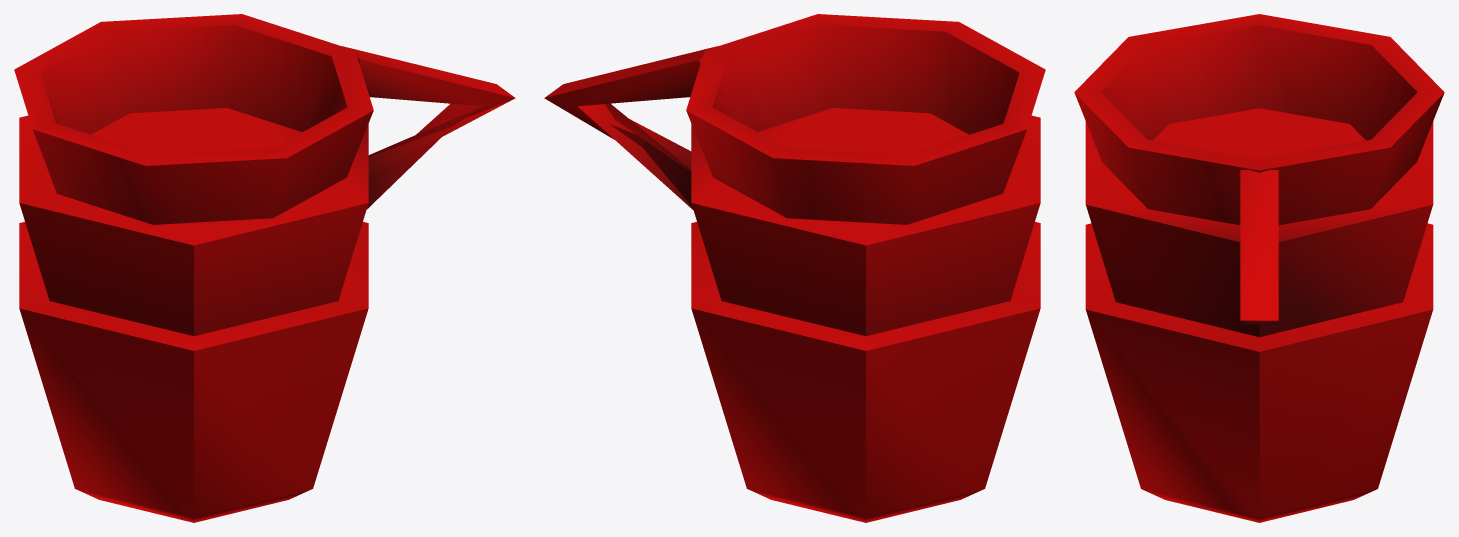
File: CI_Cafe_Cup_Stack.glb
3 views of the same model, side by side, from view 1: azimuth 30°, elevation 25°; view 2: azimuth 150°, elevation 25°; view 3: azimuth 270°, elevation 25° (orthographic).
Visible parts, largest first — view 1: CI_Cafe_Cup_Stack; view 2: CI_Cafe_Cup_Stack; view 3: CI_Cafe_Cup_Stack.
Boxes of the visible parts, bbox=[...] form: CI_Cafe_Cup_Stack: bbox=[14, 14, 515, 522]; CI_Cafe_Cup_Stack: bbox=[544, 14, 1045, 522]; CI_Cafe_Cup_Stack: bbox=[1074, 14, 1444, 522].
Bounding box in the file's own units: 0.1449 × 0.11 × 0.096.
